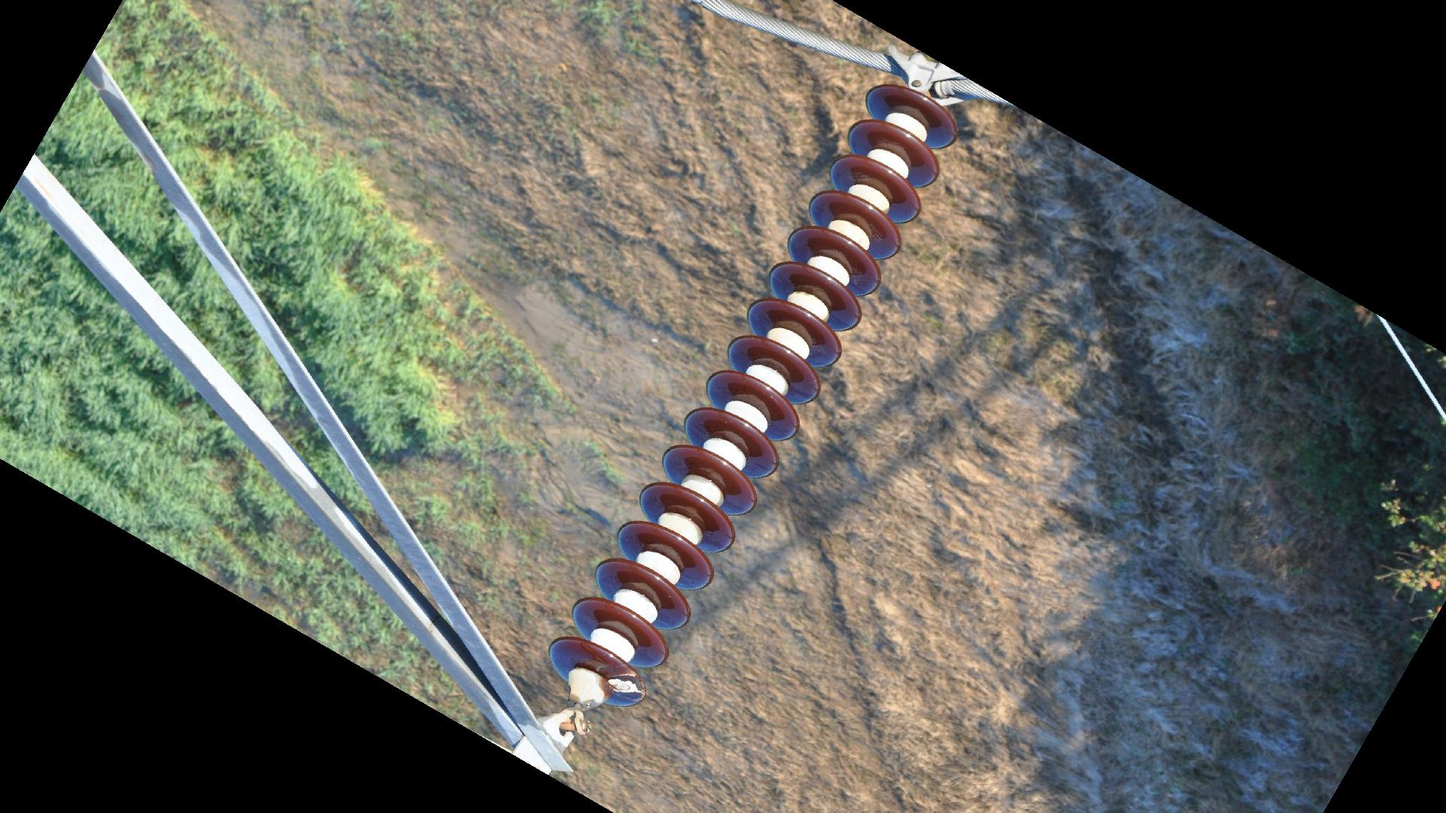insulator: (542, 79, 962, 714)
insulator_flashover: (607, 673, 647, 696)
